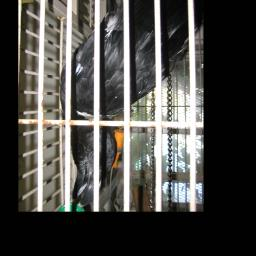Crow: (60, 0, 203, 207)
